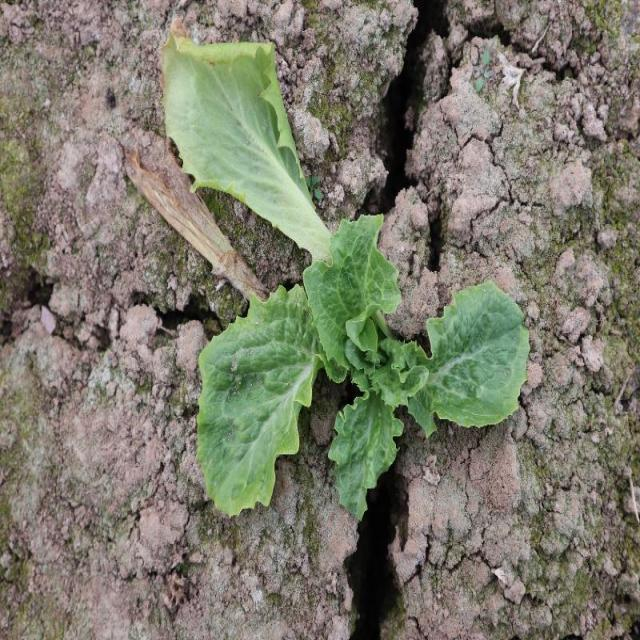crop: (158, 32, 533, 521)
